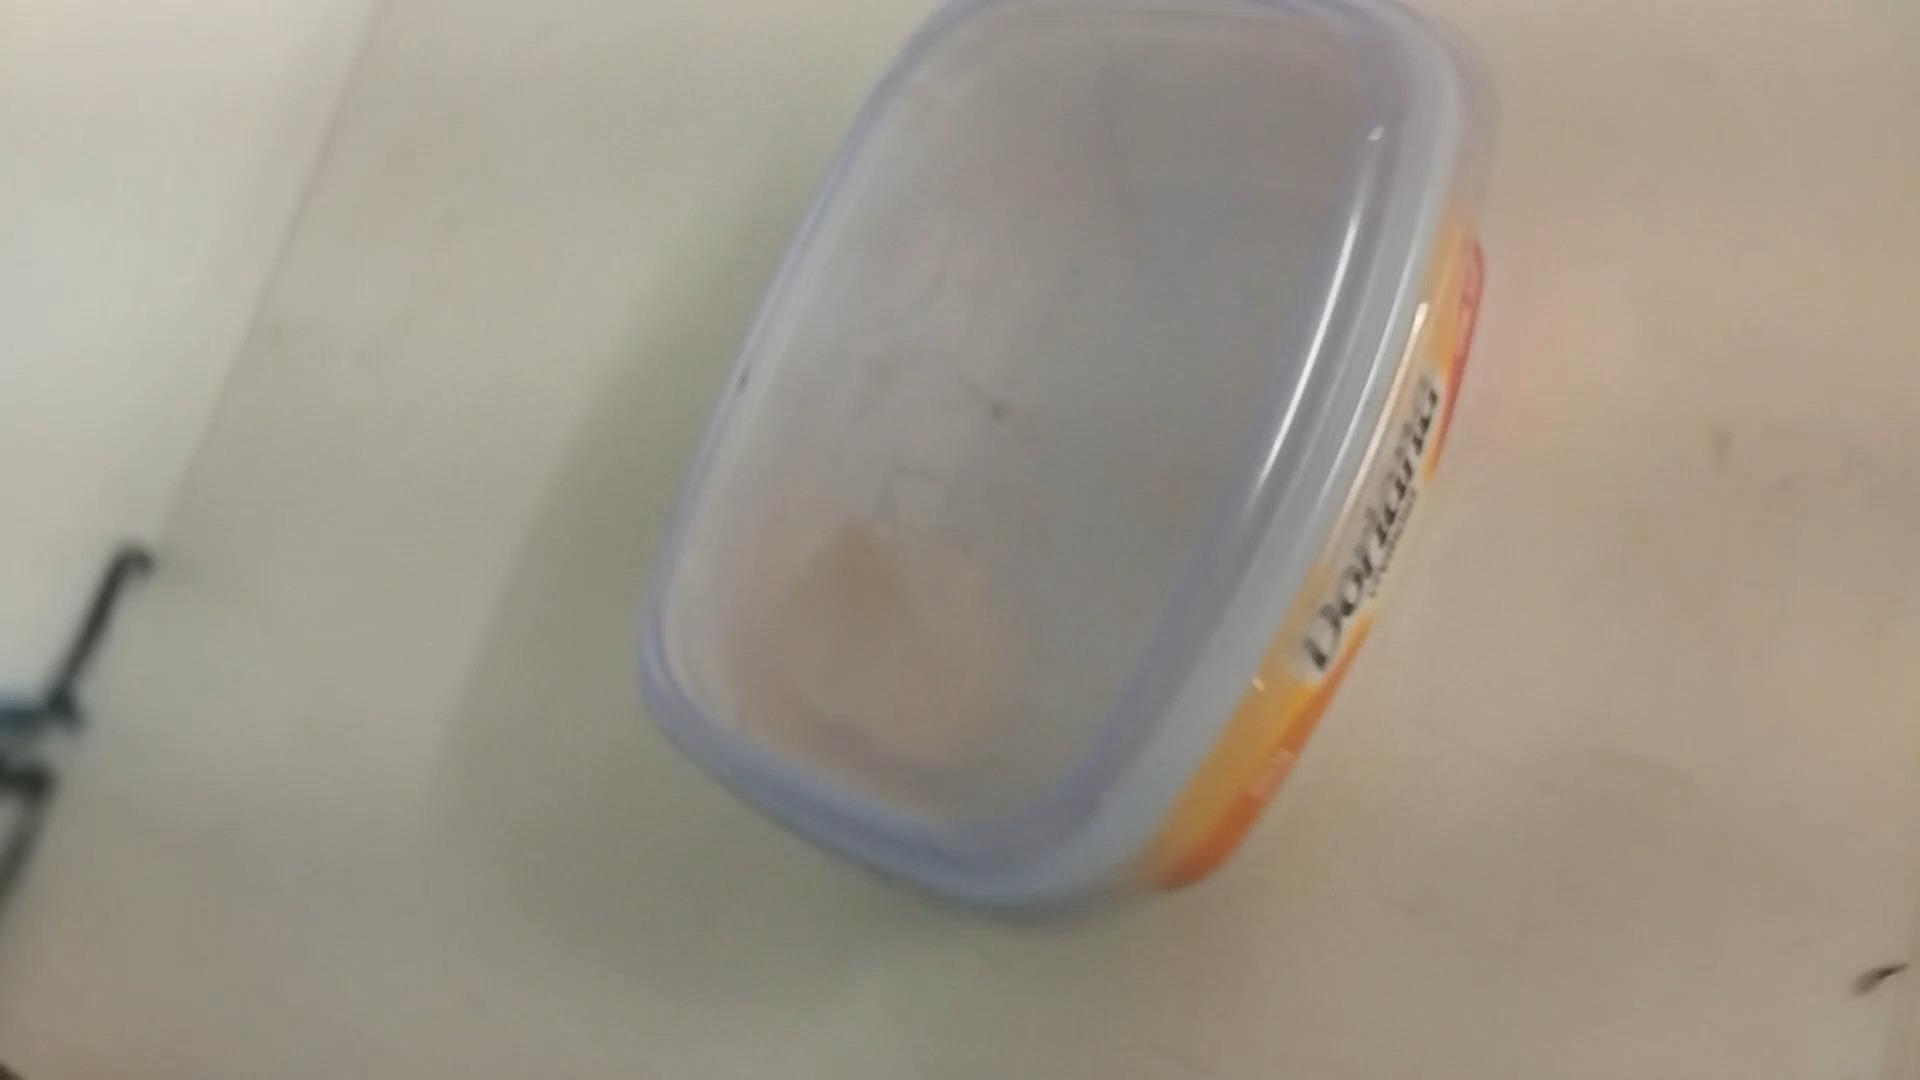butter: (637, 12, 1477, 927)
